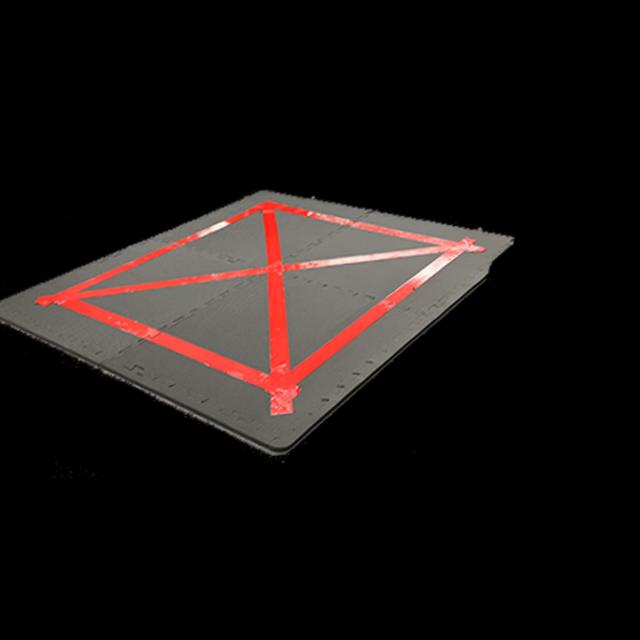landingPads: (0, 182, 543, 478)
